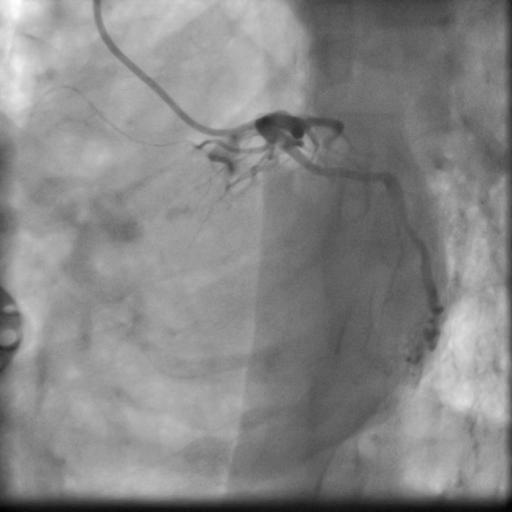Stenosis: (394, 205, 418, 239)
